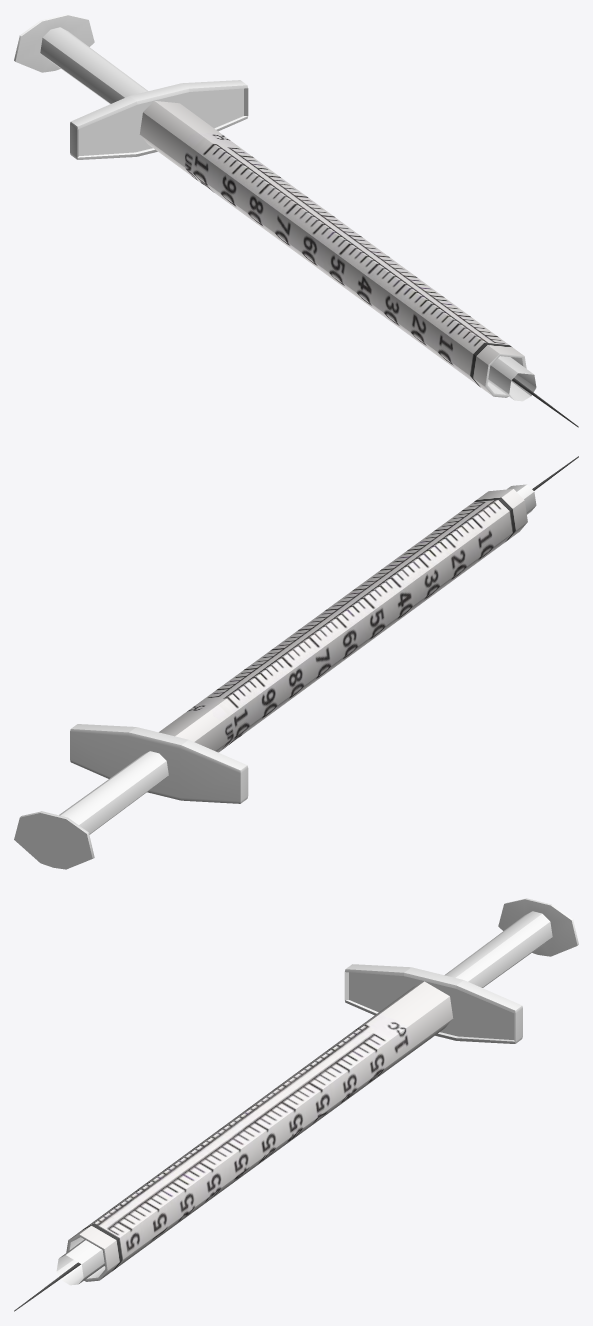
Rendered from insulin1.fbx.
The picture shows the model from 3 angles, top to bottom: view 1: azimuth 30°, elevation 25°; view 2: azimuth 150°, elevation 25°; view 3: azimuth 330°, elevation 25°; orthographic projection.
Parts seen in each view (by area): view 1: insulin1; view 2: insulin1; view 3: insulin1.
Part boxes in pixels (x1=…): insulin1: x1=14, y1=14, x2=578, y2=427; insulin1: x1=14, y1=456, x2=578, y2=869; insulin1: x1=14, y1=898, x2=578, y2=1311.
Size of the model in its own units: 4.56 by 1.42 by 24.31.
1 material, 1 textured.
